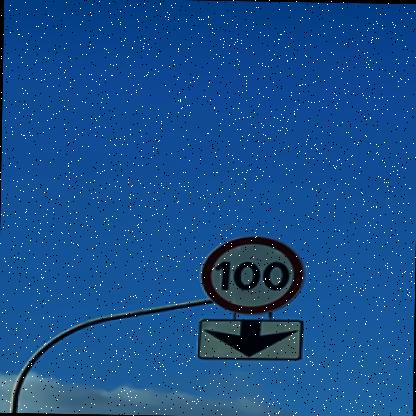speedlimit: (197, 234, 301, 314)
